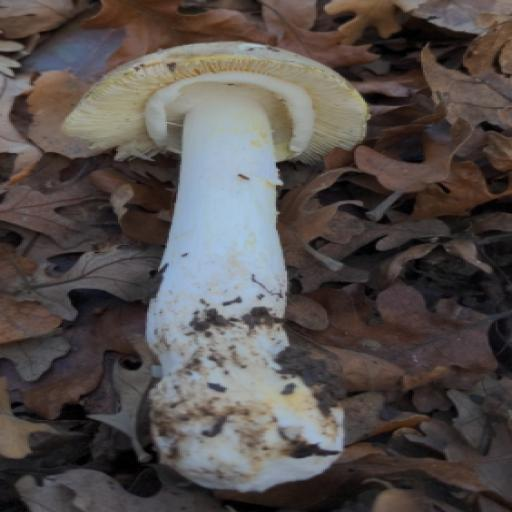mushroom: (63, 39, 370, 165)
